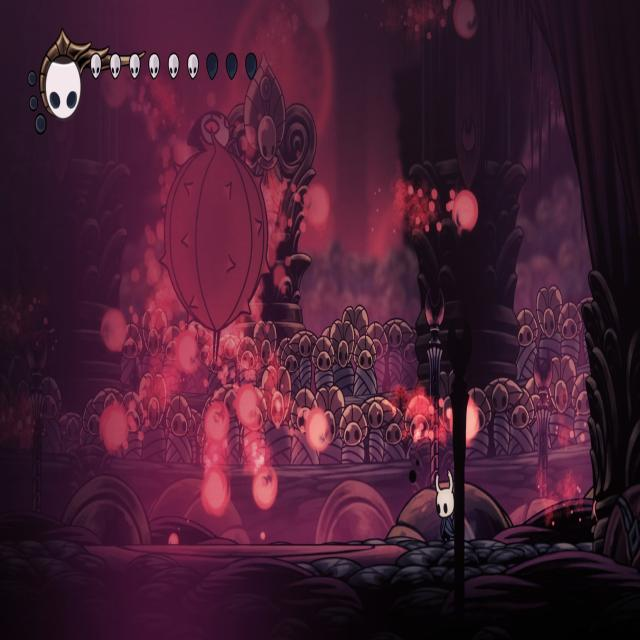Player: (431, 465, 456, 543)
Pufferfish: (154, 106, 271, 375)
Tiny Fireballs: (100, 404, 129, 454), (450, 394, 479, 444), (201, 467, 229, 517), (303, 181, 330, 228), (100, 308, 128, 352), (452, 188, 478, 232), (252, 466, 277, 511), (306, 408, 331, 453), (176, 332, 200, 376), (205, 401, 230, 443), (237, 386, 260, 429), (454, 0, 478, 39)
